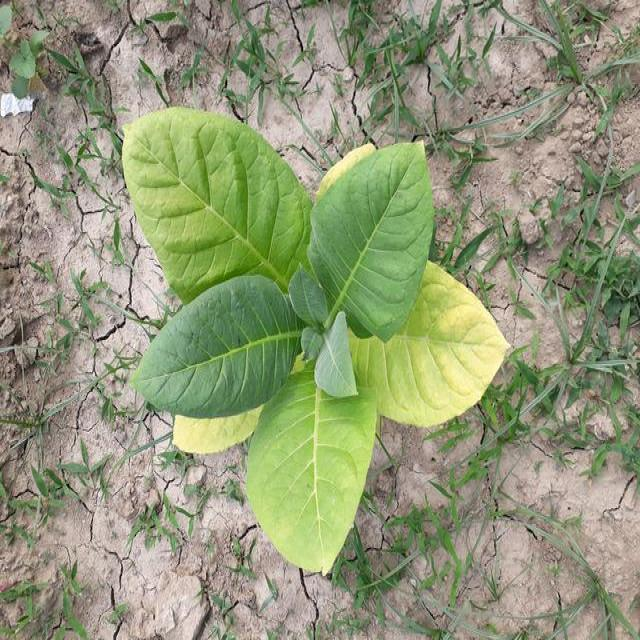crop: (114, 102, 512, 589)
